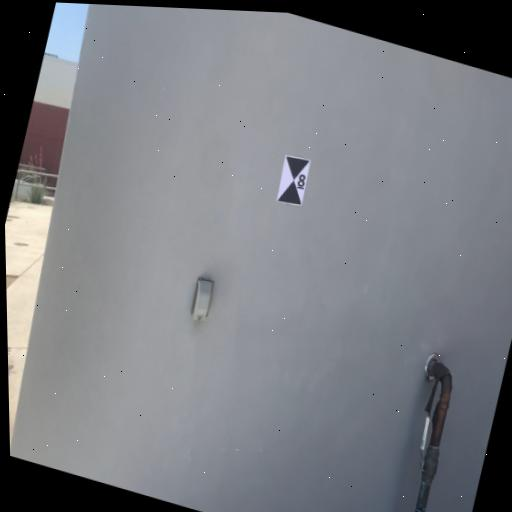target8: (274, 152, 313, 209)
